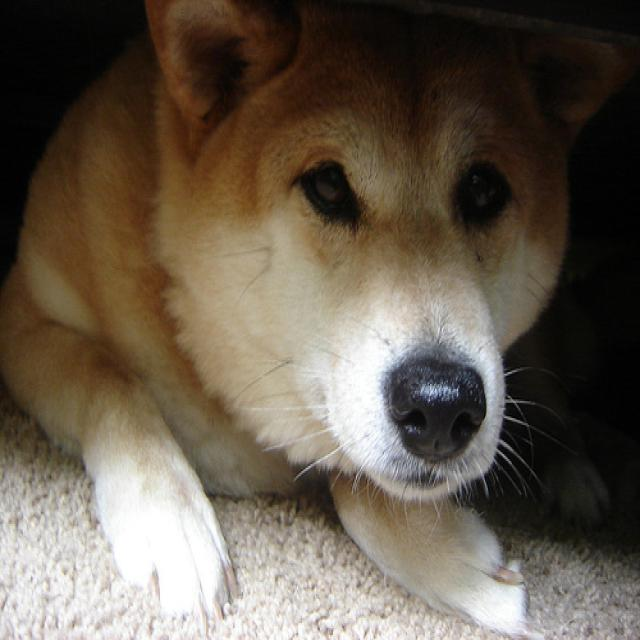dog-shiba_inu: (1, 2, 637, 637)
